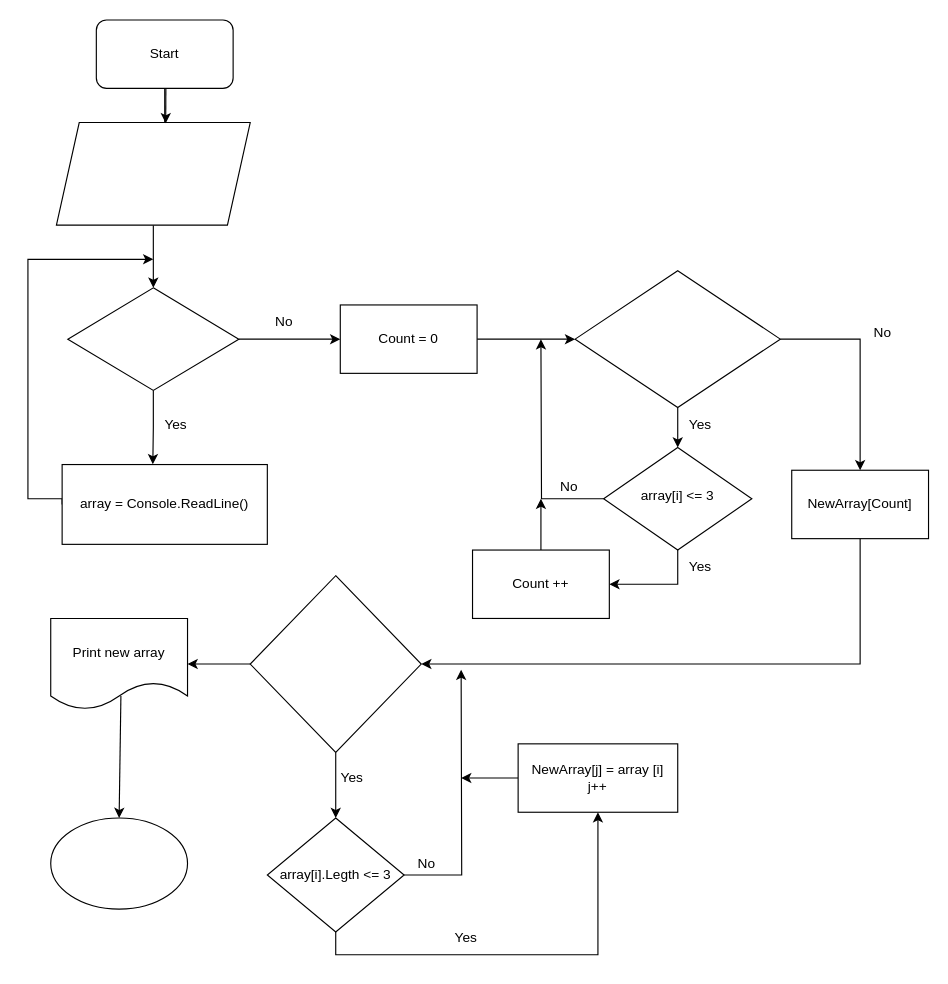
The diagram is 948 pixels wide and 984 high, and some of its shapes have lost their labels. Each missing label, with the centre of its shape:
"ElementsCount array[ElementsCount]" belongs at [152,173].
"End" belongs at [119,863].
"i = 0 i < array.Legth i++" belongs at [677,339].
"i = 0 i = arrayLength i++" belongs at [153,338].
"i = 0 j = 0 i < array.Legth i++" belongs at [335,663].
